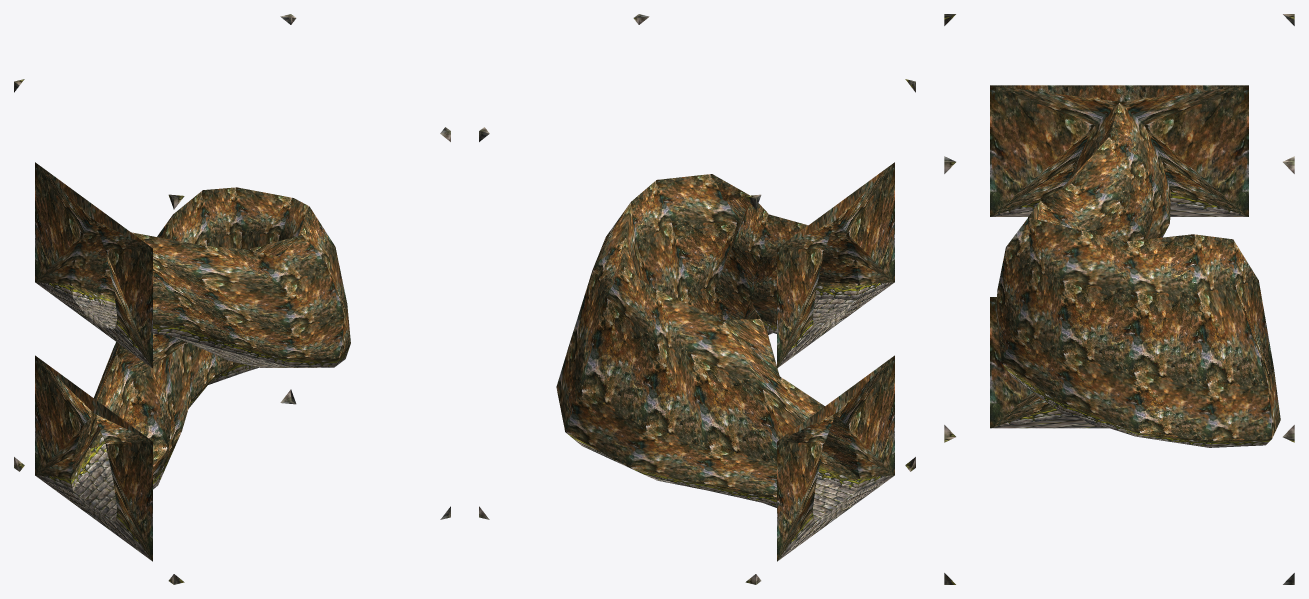
Rendered from lbc_2m2l.glb.
3 views of the same model, side by side, from view 1: azimuth 30°, elevation 25°; view 2: azimuth 150°, elevation 25°; view 3: azimuth 270°, elevation 25° (orthographic). The views are drawn at different scales.
Parts seen in each view (by area): view 1: lbc_2m2l; view 2: lbc_2m2l; view 3: lbc_2m2l.
Part boxes in pixels (left/top/right/bottom): lbc_2m2l: left=14, top=14, right=450, bottom=584; lbc_2m2l: left=479, top=14, right=915, bottom=584; lbc_2m2l: left=944, top=14, right=1294, bottom=584.
Bounding box in the file's own units: 15 × 20 × 15.
4 materials, 4 textured.
